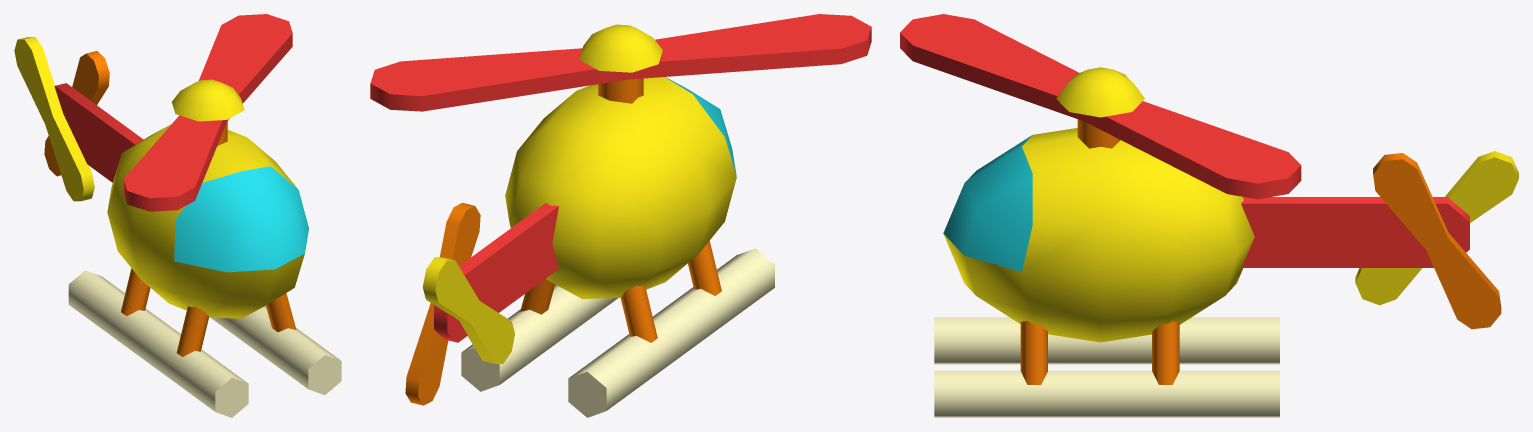
The model's file is toy_031.glb.
3 views of the same model, side by side, from view 1: azimuth 30°, elevation 25°; view 2: azimuth 150°, elevation 25°; view 3: azimuth 270°, elevation 25° (orthographic). The views are drawn at different scales.
Visible parts, largest first — view 1: toy_031; view 2: toy_031; view 3: toy_031.
Boxes of the visible parts, x1=… form: toy_031: x1=14, y1=14, x2=341, y2=417; toy_031: x1=370, y1=14, x2=871, y2=417; toy_031: x1=900, y1=14, x2=1518, y2=417.
Size of the model in its own units: 0.4193 by 0.3687 by 0.6468.
Materials: 1 (1 with a texture image).
